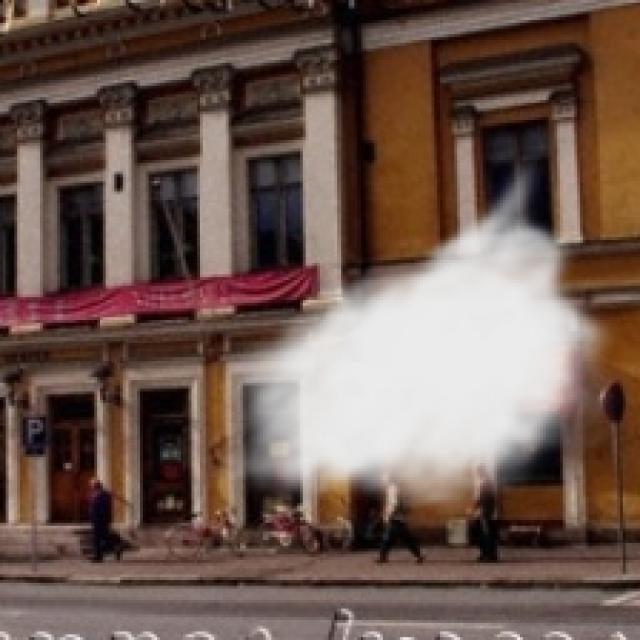Smoke: (211, 152, 620, 517)
